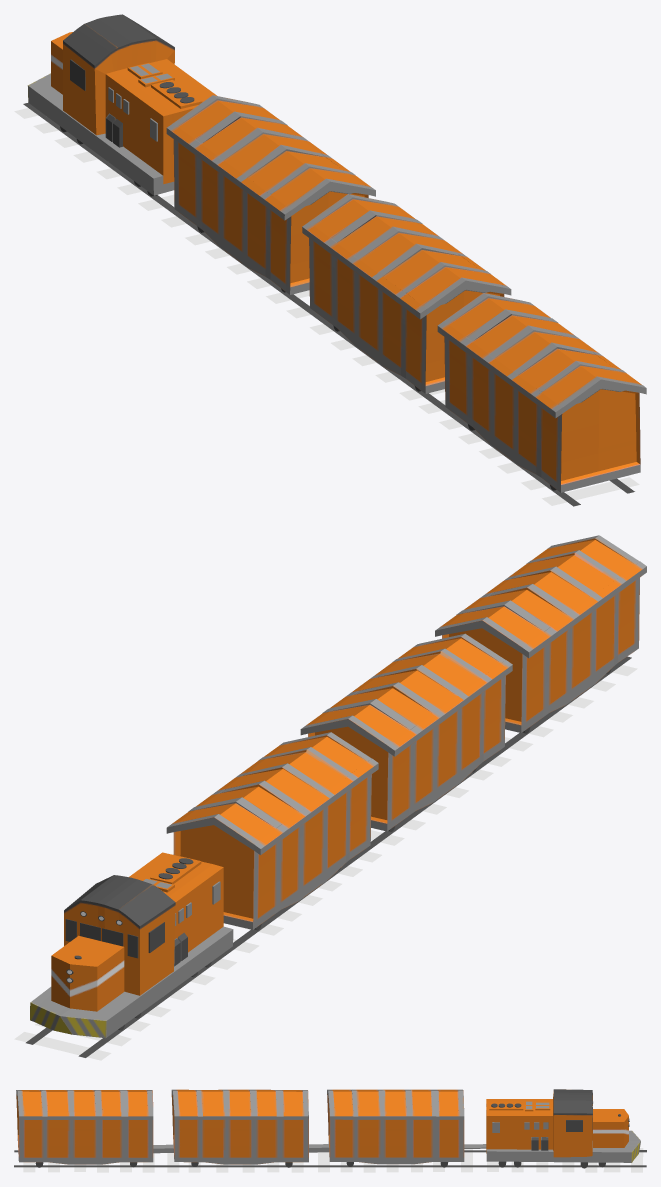
File: train.fbx
The picture shows the model from 3 angles, top to bottom: view 1: azimuth 30°, elevation 25°; view 2: azimuth 150°, elevation 25°; view 3: azimuth 270°, elevation 25°; orthographic projection. The views are drawn at different scales.
Parts seen in each view (by area): view 1: Train; view 2: Train; view 3: Train.
Boxes of the visible parts, box(x1,y1,x2,y2) form: Train: box(14, 14, 646, 506); Train: box(14, 535, 646, 1060); Train: box(14, 1089, 646, 1172).
Size of the model in its own units: 90.51 by 110 by 910.
